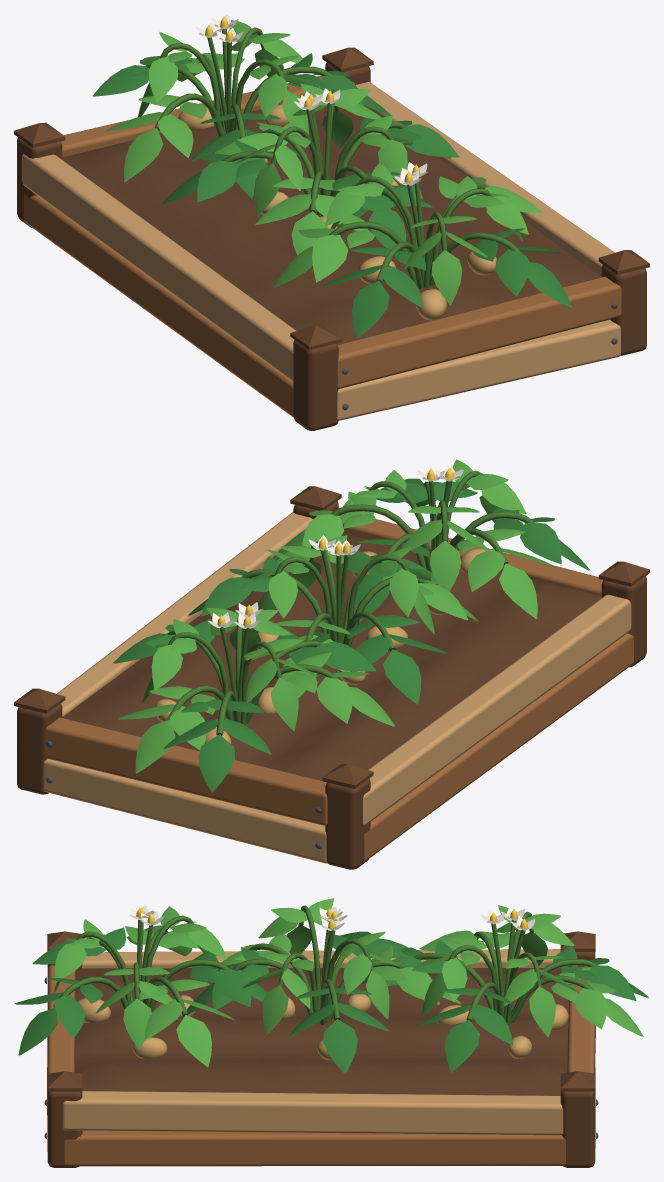
The model's file is BedWood.fbx.
3 views of the same model, one above another, from view 1: azimuth 30°, elevation 25°; view 2: azimuth 150°, elevation 25°; view 3: azimuth 270°, elevation 25° (orthographic). The views are drawn at different scales.
Parts seen in each view (by area): view 1: Body__Soil, Body__WoodLight, Body__Wood, Body__WoodDark, Bush/Plant0__Leaf, Bush/Plant1__Leaf, Bush/Plant2__Leaf, Bush/Plant0__LeafDark, Bush/Plant1__LeafDark, Bush/Plant2__Stem, Bush/Plant0__Stem, Bush/Plant2__LeafDark (+2 smaller); view 2: Body__Soil, Body__WoodLight, Body__Wood, Bush/Plant2__Leaf, Body__WoodDark, Bush/Plant0__Leaf, Bush/Plant1__Leaf, Bush/Plant2__LeafDark, Bush/Plant1__LeafDark, Bush/Plant1__Stem, Bush/Plant2__Stem, Bush/Plant0__LeafDark (+3 smaller); view 3: Body__Soil, Body__WoodLight, Body__Wood, Bush/Plant2__Leaf, Bush/Plant0__Leaf, Bush/Plant1__Leaf, Body__WoodDark, Bush/Plant2__LeafDark, Bush/Plant0__LeafDark, Bush/Plant1__LeafDark, Bush/Plant2__Stem, Bush/Plant1__Stem (+3 smaller).
Boxes of the visible parts, <box> form: Body__Soil: <box>62,105,600,344</box>; Body__WoodLight: <box>22,82,621,420</box>; Body__Wood: <box>23,75,621,417</box>; Body__WoodDark: <box>14,47,649,430</box>; Bush/Plant0__Leaf: <box>273,163,542,305</box>; Bush/Plant1__Leaf: <box>214,83,423,255</box>; Bush/Plant2__Leaf: <box>106,20,318,182</box>; Bush/Plant0__LeafDark: <box>316,184,572,338</box>; Bush/Plant1__LeafDark: <box>162,113,459,256</box>; Bush/Plant2__Stem: <box>146,27,332,138</box>; Bush/Plant0__Stem: <box>329,176,523,288</box>; Bush/Plant2__LeafDark: <box>92,53,391,198</box>; Body__Soil: <box>62,533,601,780</box>; Body__WoodLight: <box>43,512,631,863</box>; Body__Wood: <box>45,519,633,862</box>; Bush/Plant2__Leaf: <box>118,608,394,773</box>; Body__WoodDark: <box>14,486,649,869</box>; Bush/Plant0__Leaf: <box>272,459,556,618</box>; Bush/Plant1__Leaf: <box>251,535,478,697</box>; Bush/Plant2__LeafDark: <box>113,619,376,792</box>; Bush/Plant1__LeafDark: <box>187,551,447,704</box>; Bush/Plant1__Stem: <box>241,541,428,651</box>; Bush/Plant2__Stem: <box>167,614,340,735</box>; Bush/Plant0__LeafDark: <box>332,478,590,622</box>; Body__Soil: <box>75,968,567,1095</box>; Body__WoodLight: <box>47,949,595,1151</box>; Body__Wood: <box>47,965,595,1166</box>; Bush/Plant2__Leaf: <box>419,905,643,1037</box>; Bush/Plant0__Leaf: <box>53,906,235,1067</box>; Bush/Plant1__Leaf: <box>204,898,461,1035</box>; Body__WoodDark: <box>47,931,595,1167</box>; Bush/Plant2__LeafDark: <box>361,940,649,1072</box>; Bush/Plant0__LeafDark: <box>15,927,267,1055</box>; Bush/Plant1__LeafDark: <box>181,931,412,1074</box>; Bush/Plant2__Stem: <box>413,911,597,1024</box>; Bush/Plant1__Stem: <box>232,905,407,1024</box>.
Size of the model in its own units: 4.04 by 2.64 by 6.96.
